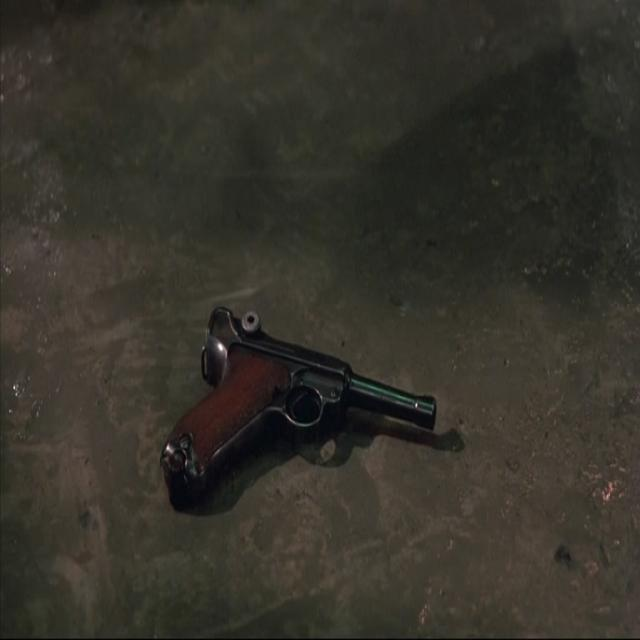gun-knife-thesis - v11 Yolov5 augmented: (158, 298, 440, 522)
